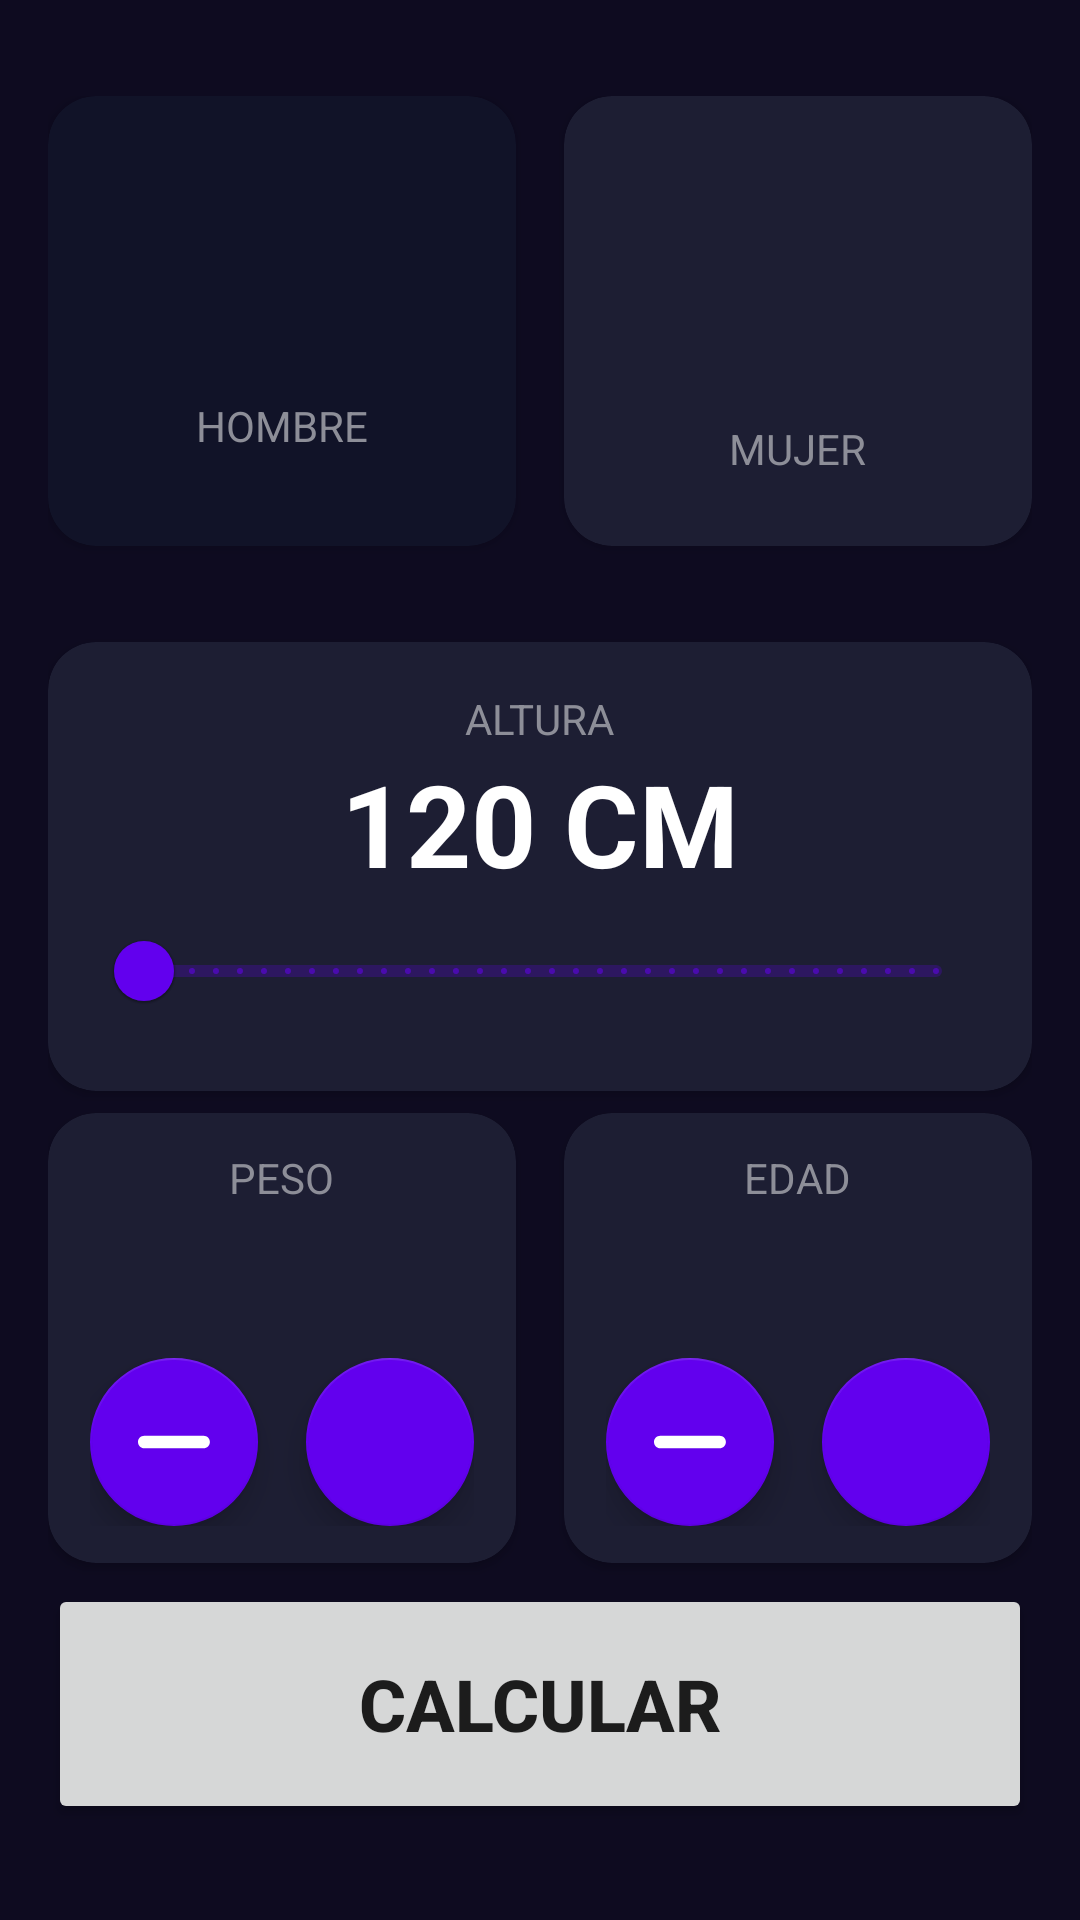

Icons on this 1080 × 1920 Android screen, each with the point to tap as (x=x, y=y):
menos: (x=174, y=1442), (x=690, y=1442)
